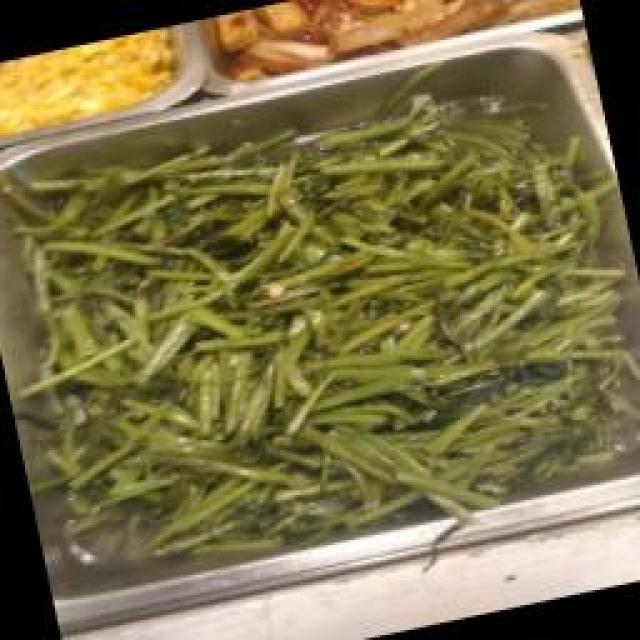water_spinach: (5, 58, 640, 588)
